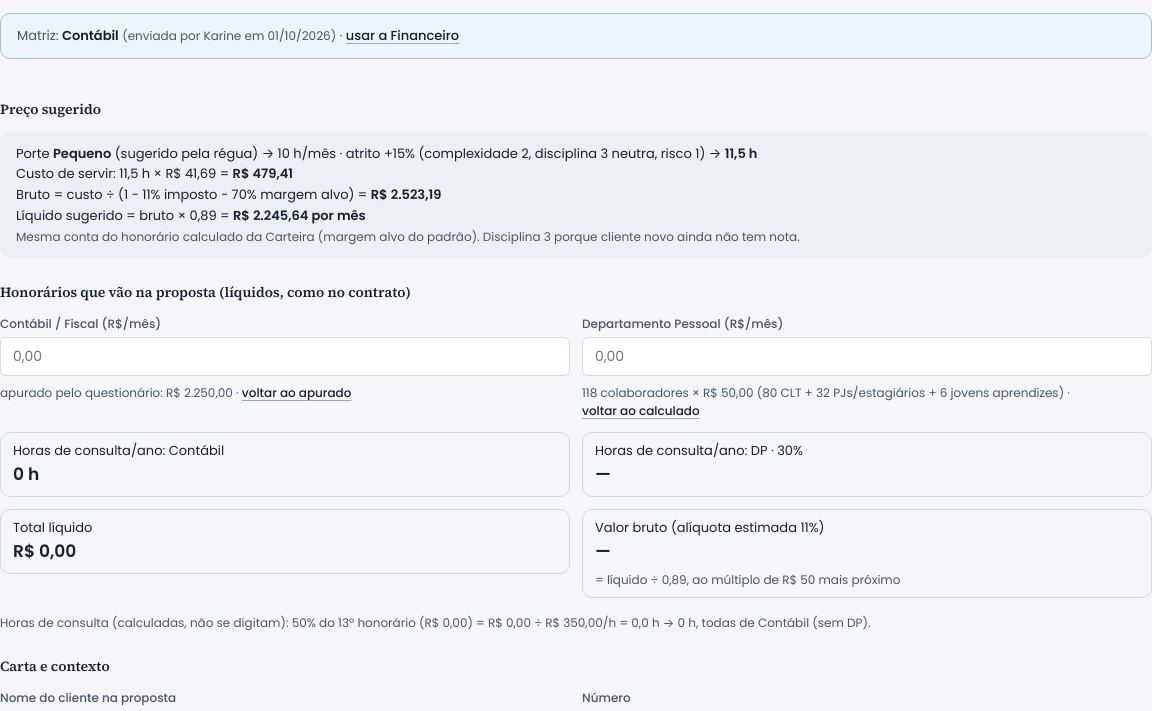
Test case: aba Proposta › soma o líquido, compara com o sugerido e mostra o bruto ao múltiplo de 50
The image size is (1152, 711).
Type "1600" into the field labelled "Contábil / Fiscal (R$/mês)".
click(285, 356); type("1600")  # box [0, 337, 570, 376]
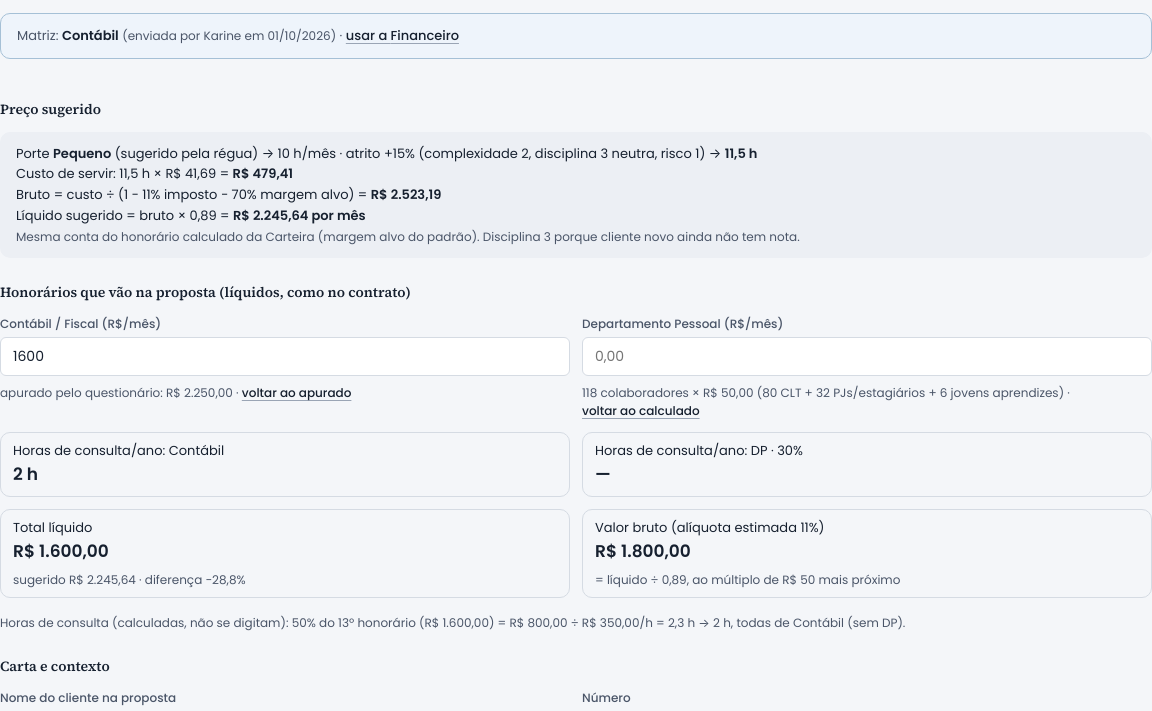
Type "650" into the field labelled "Departamento Pessoal (R$/mês)".
click(867, 356); type("650")  # box [582, 337, 1151, 376]
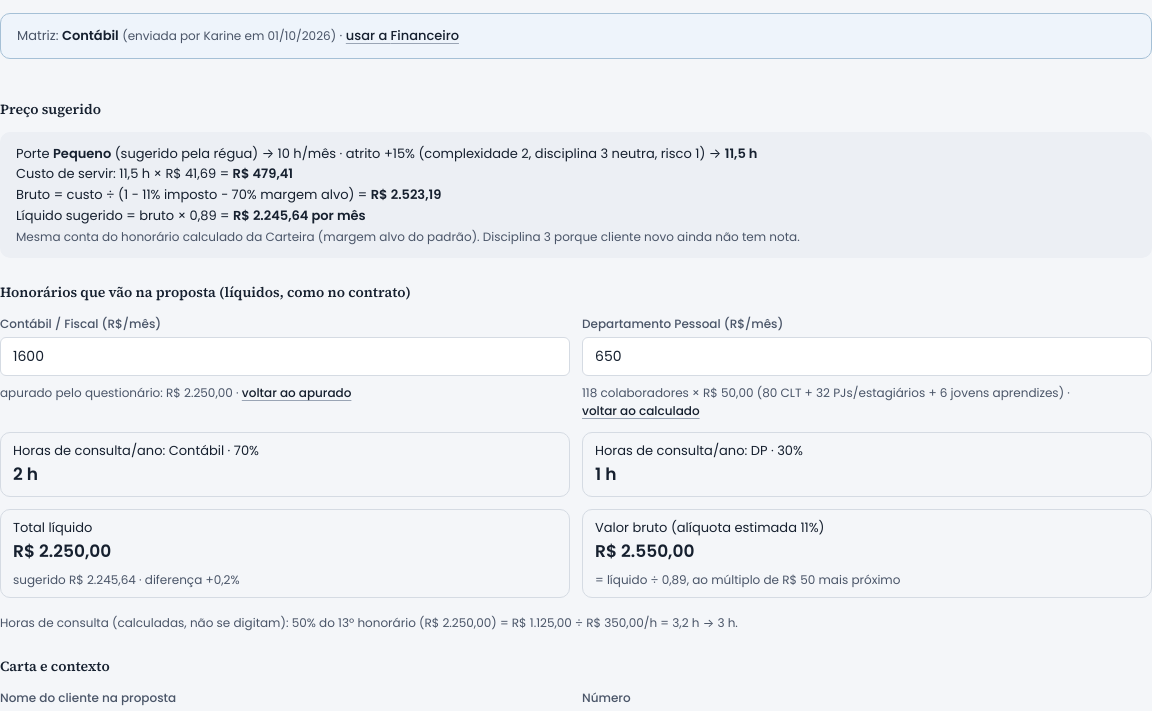
Now the text "Total líquido" shows "R$ 2.250,00", box [13, 539, 111, 563]
Now the text "Total líquido" shows "sugerido R$ 2.245,64 · diferença +0,2%", box [0, 509, 570, 598]
Now the text "Valor bruto" shows "R$ 2.550,00", box [595, 539, 694, 563]
